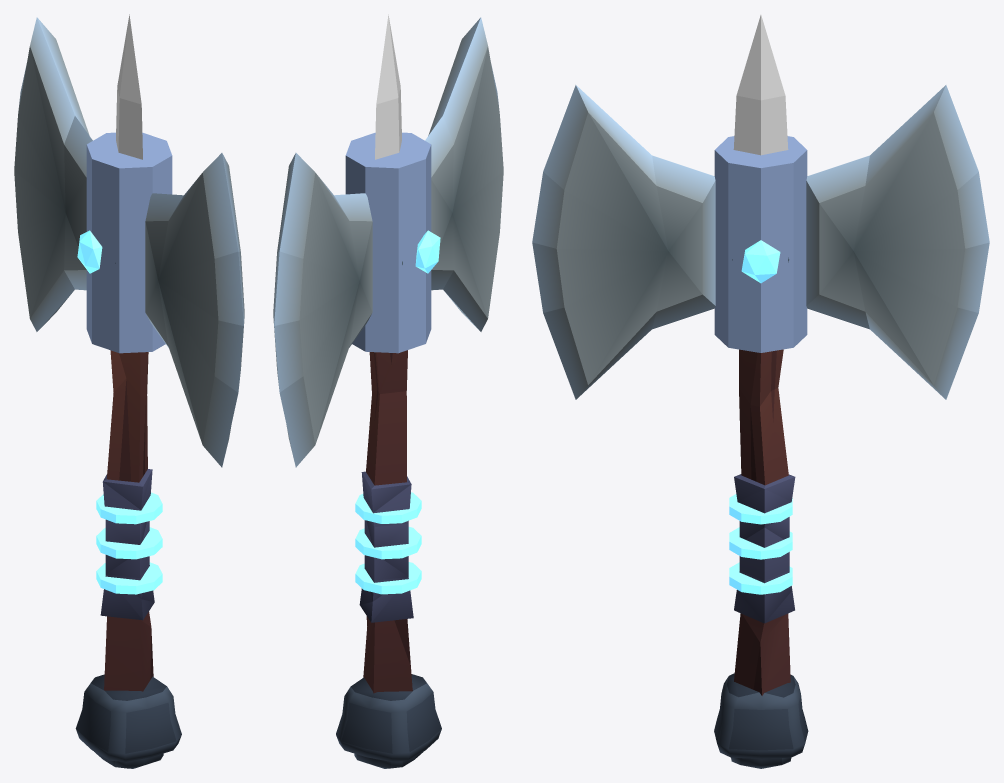
The model's file is axe_rare.glb.
3 renders of one model, left to right at view 1: azimuth 30°, elevation 25°; view 2: azimuth 150°, elevation 25°; view 3: azimuth 270°, elevation 25°, orthographic.
Visible parts, largest first — view 1: axe_rare_export; view 2: axe_rare_export; view 3: axe_rare_export.
Part boxes in pixels (left/top/right/bottom): axe_rare_export: left=14, top=14, right=244, bottom=768; axe_rare_export: left=273, top=14, right=503, bottom=768; axe_rare_export: left=532, top=15, right=989, bottom=768.
Bounding box in the file's own units: 23.54 × 180 × 99.12.
